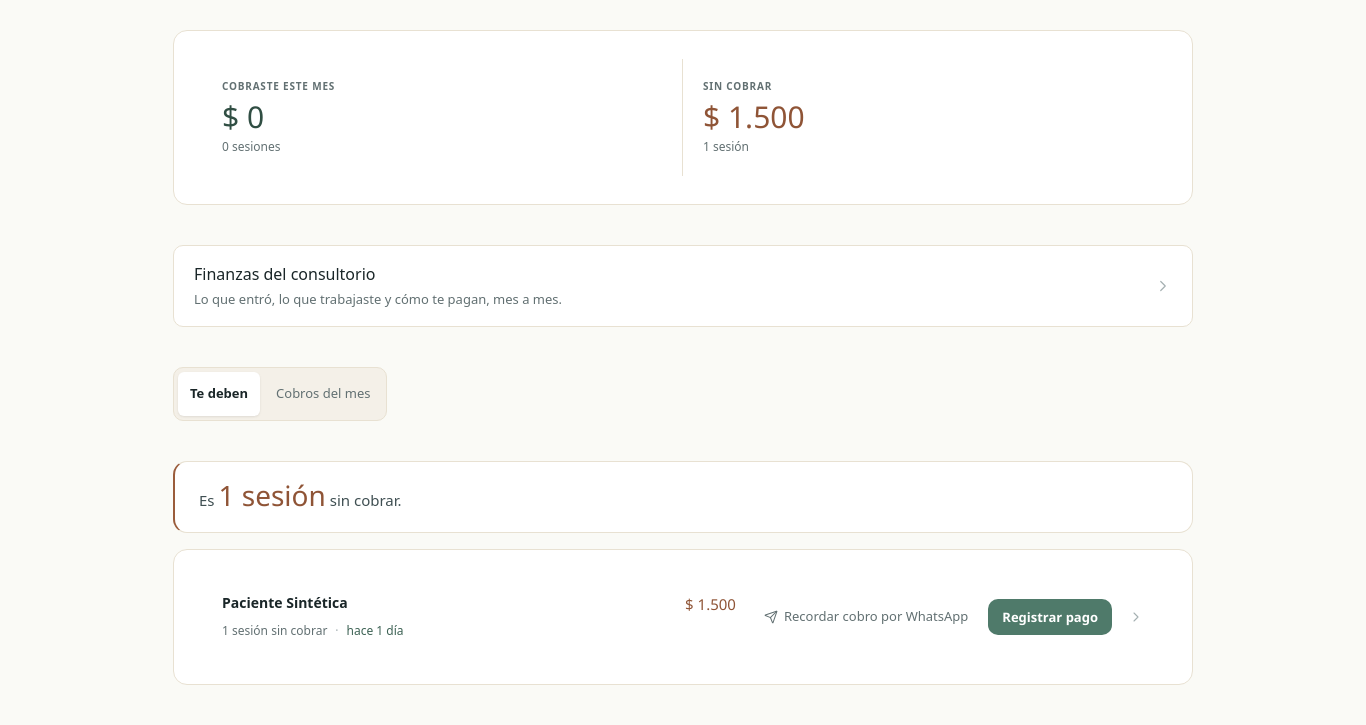
los avisos distinguen un rechazo de una operación confirmada › aviso de cobro por WhatsApp: éxito=false
(page scrolled)
Click the button with aria-label "Recordar cobro a": (866, 617) [752, 599, 980, 635]
(page scrolled)
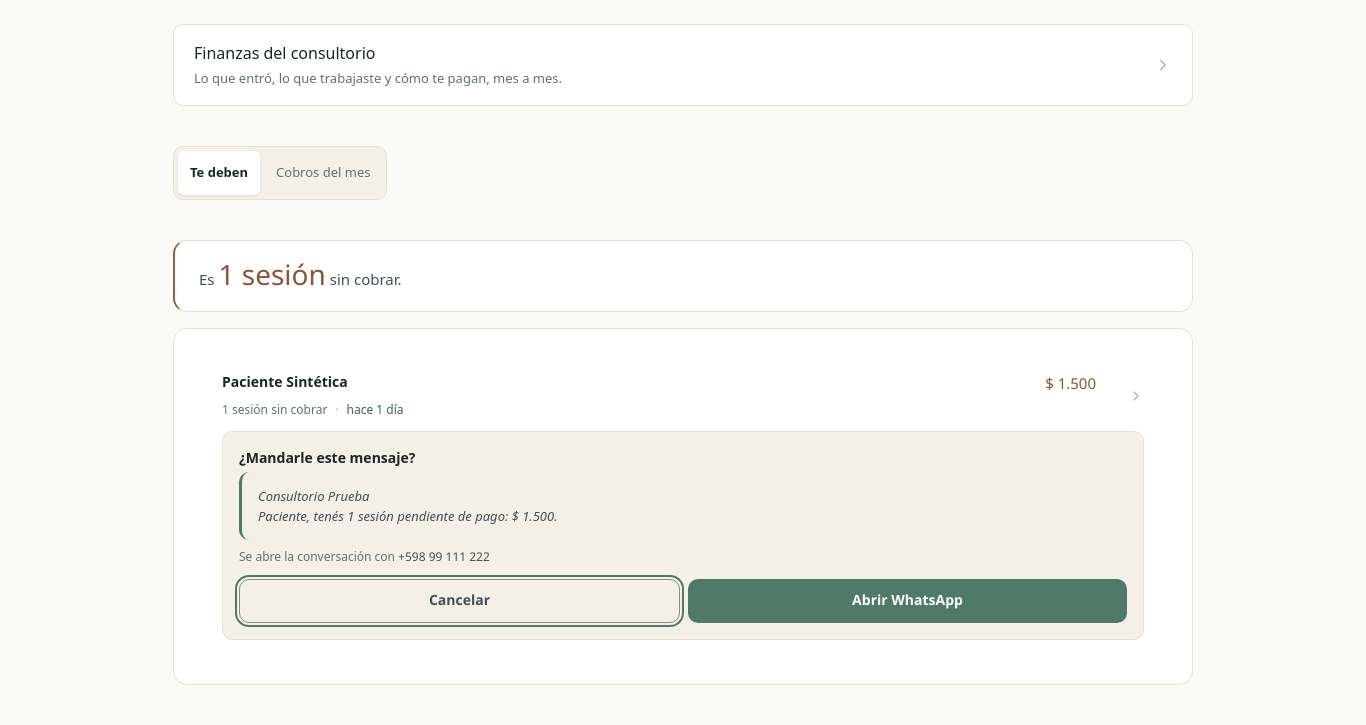
Click the button "Abrir WhatsApp": (908, 601) [688, 579, 1127, 623]
(page scrolled)
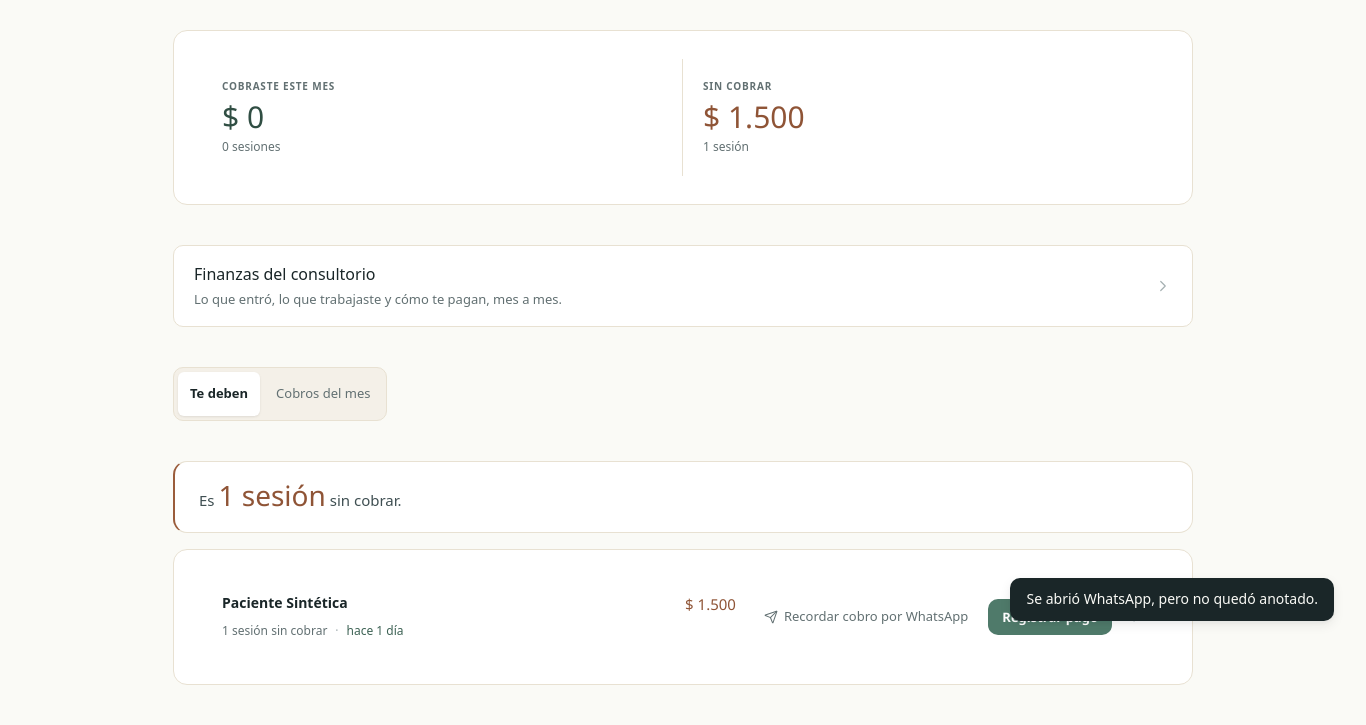
Now the message "Se abrió WhatsApp, pero no quedó anotado." is shown, box [1010, 578, 1334, 621]
